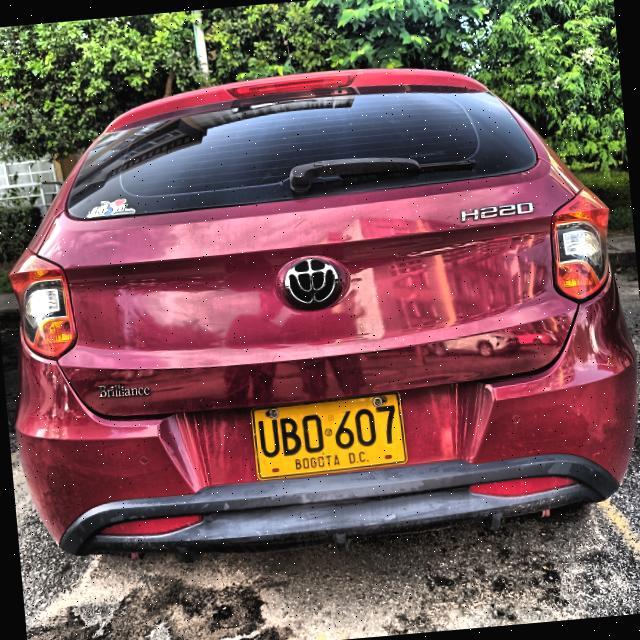plate: (252, 392, 405, 479)
